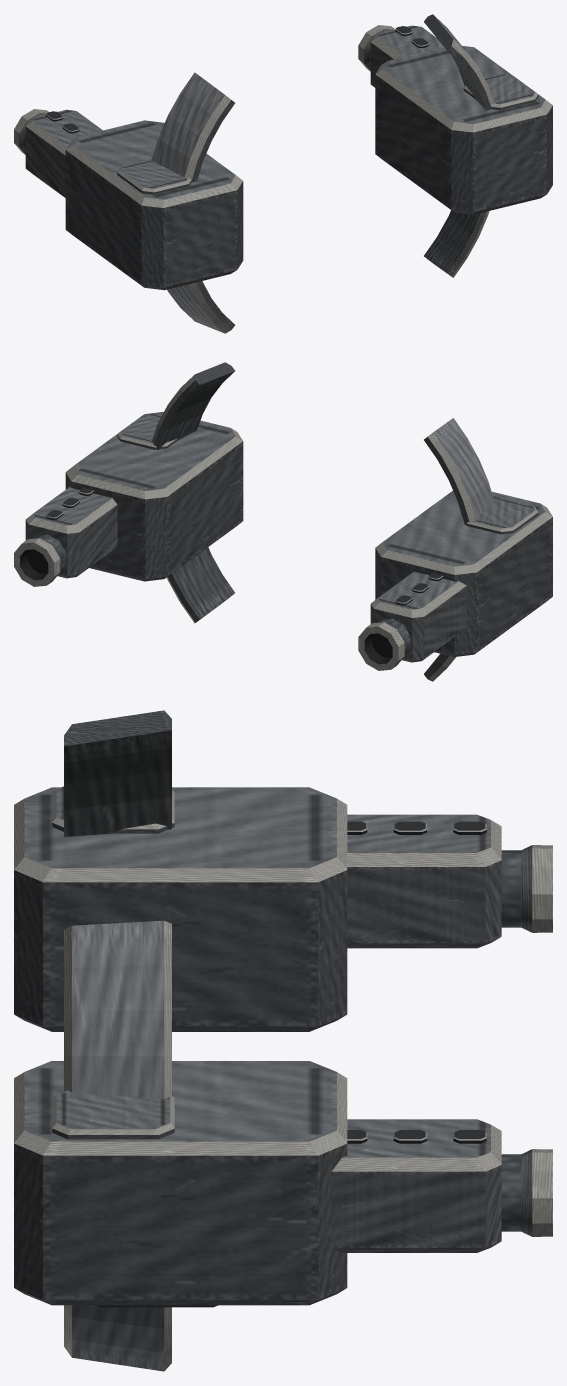
The model's file is DualMachineGun.glb.
3 renders of one model, top to bottom at view 1: azimuth 30°, elevation 25°; view 2: azimuth 150°, elevation 25°; view 3: azimuth 270°, elevation 25°, orthographic. The views are drawn at different scales.
Visible parts, largest first — view 1: DualMachineGun; view 2: DualMachineGun; view 3: DualMachineGun.
Boxes of the visible parts, x1,y1,x2,y2 form: DualMachineGun: (14, 14, 552, 333); DualMachineGun: (14, 362, 552, 681); DualMachineGun: (14, 710, 552, 1371).
Bounding box in the file's own units: 0.652 × 0.3775 × 0.409.
Materials: 1 (1 with a texture image).
